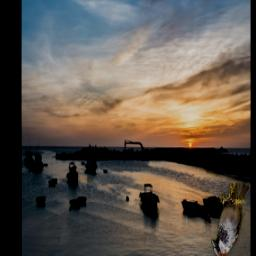Sparrow: (211, 183, 249, 256)
